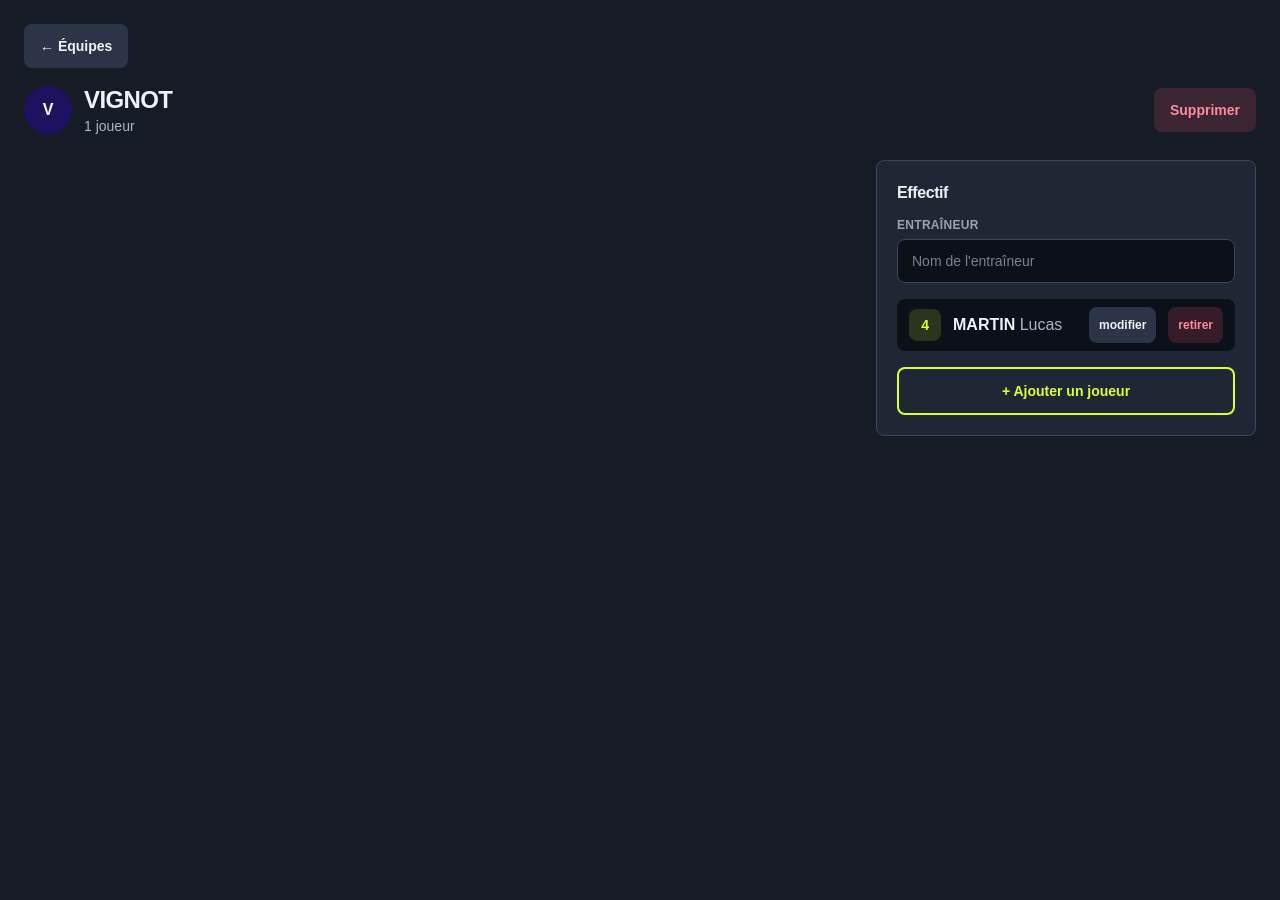
TeamDetail — rights › shows the add form only after a click
Expected: the field with placeholder "N°" is not shown
What coordinates should you click on to do the following:
click the button "+ Ajouter un joueur"
I would click on:
 (1066, 391)
Its box is [897, 367, 1235, 415].
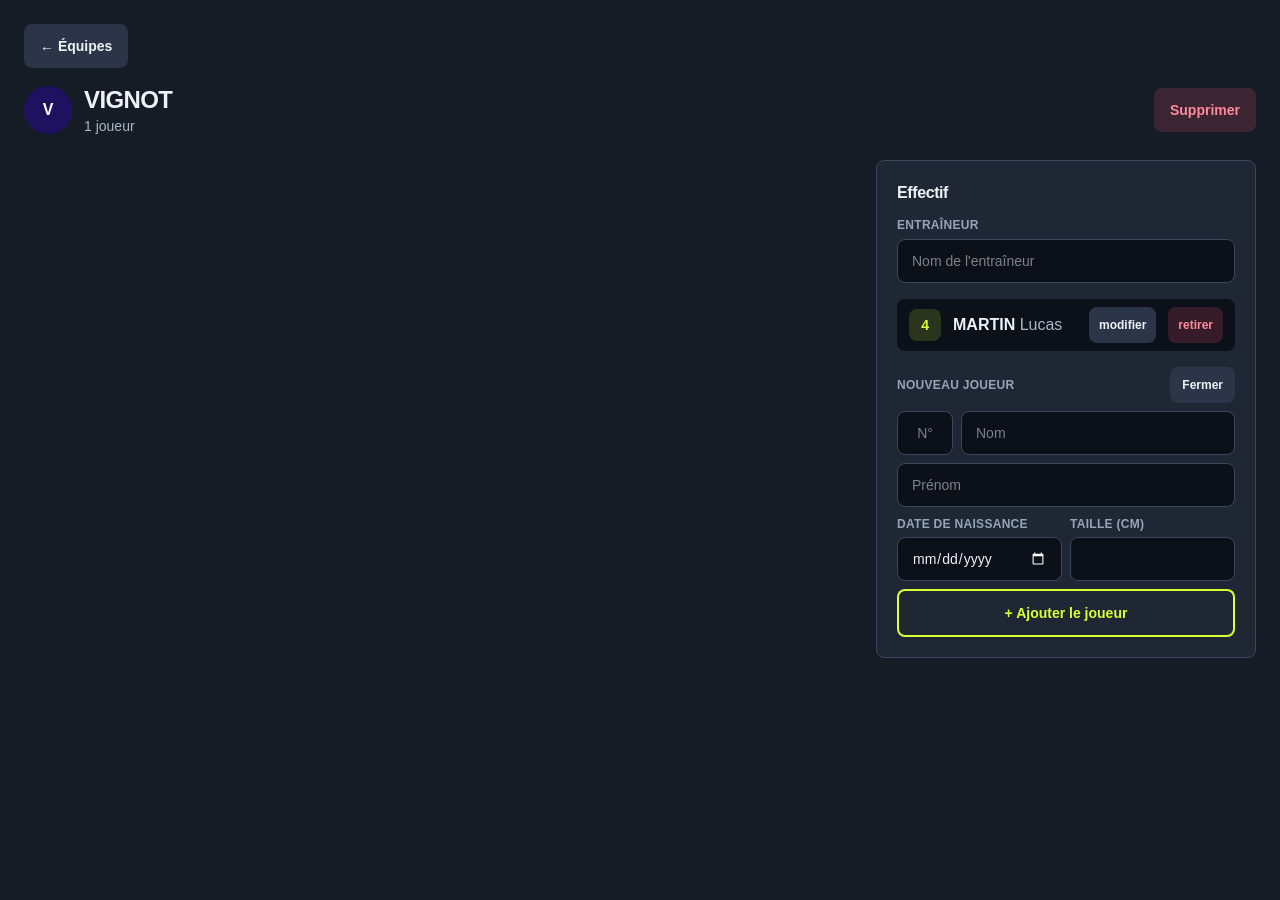
Expected: the field with placeholder "N°" is shown, [897, 411, 953, 455]
